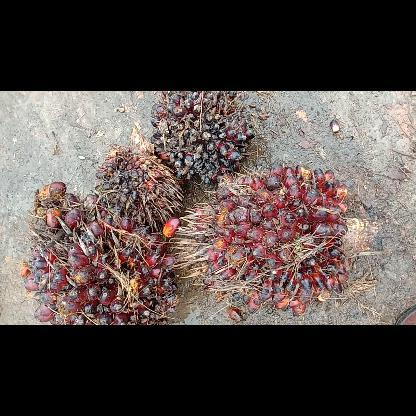Kurang masak: (21, 181, 176, 324)
TBS abnormal: (151, 91, 257, 185), (95, 126, 183, 230)
TBS masak: (171, 164, 377, 314)
